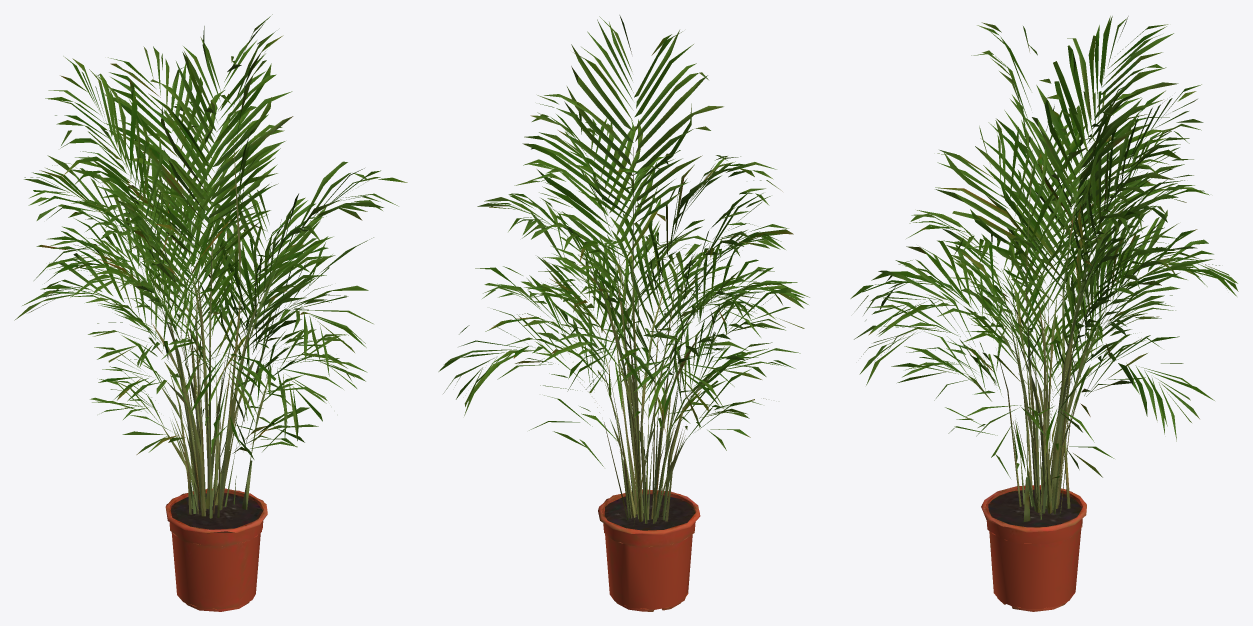
3 renders of one model, left to right at view 1: azimuth 30°, elevation 25°; view 2: azimuth 150°, elevation 25°; view 3: azimuth 270°, elevation 25°, orthographic. The views are drawn at different scales.
Visible parts, largest first — view 1: Mesh_0; view 2: Mesh_0; view 3: Mesh_0.
Part boxes in pixels (x1,y1,x2,y2): Mesh_0: [14, 14, 407, 611]; Mesh_0: [438, 15, 809, 611]; Mesh_0: [850, 16, 1238, 611].
Bounding box in the file's own units: 0.8535 × 1.47 × 0.8787.
1 material, 1 textured.
